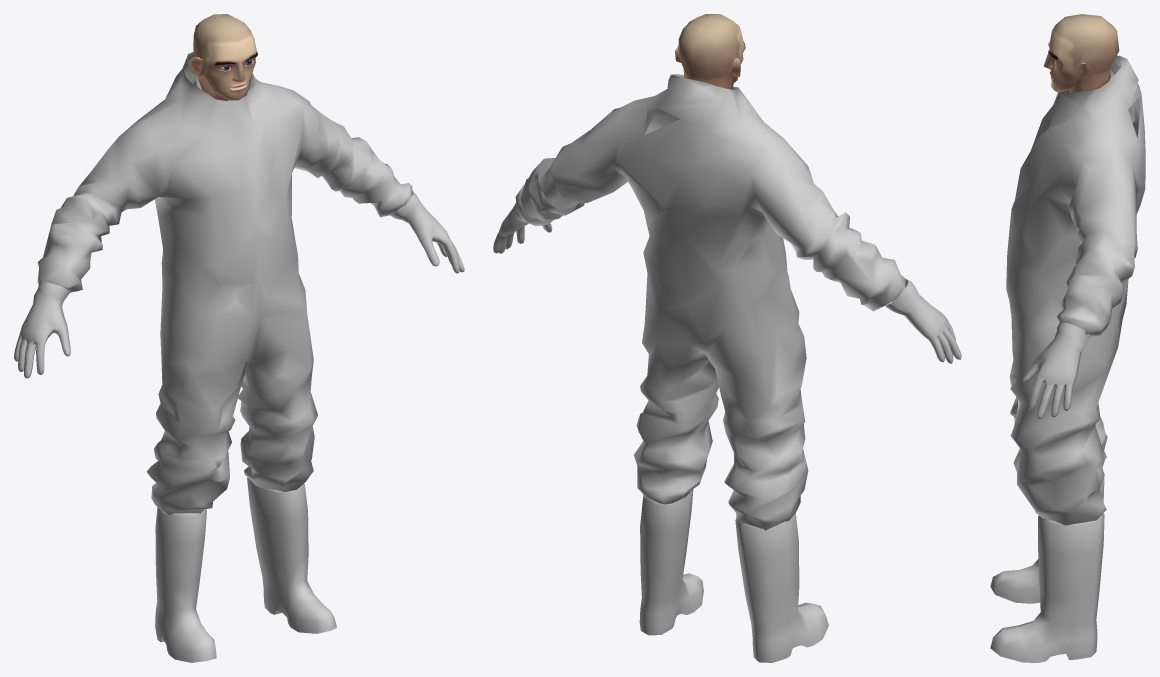
The picture shows the model from 3 angles, left to right: view 1: azimuth 30°, elevation 25°; view 2: azimuth 150°, elevation 25°; view 3: azimuth 270°, elevation 25°; orthographic projection. The views are drawn at different scales.
Parts seen in each view (by area): view 1: Bunny_Suit, Boots, Gloves, Head; view 2: Bunny_Suit, Boots, Head, Gloves; view 3: Bunny_Suit, Boots, Head, Gloves.
Part boxes in pixels (x1=…): Bunny_Suit: x1=37, y1=51, x2=412, y2=514; Boots: x1=155, y1=477, x2=336, y2=662; Gloves: x1=14, y1=191, x2=464, y2=378; Head: x1=187, y1=14, x2=257, y2=100; Bunny_Suit: x1=515, y1=74, x2=905, y2=530; Boots: x1=639, y1=489, x2=828, y2=662; Head: x1=675, y1=14, x2=745, y2=89; Gloves: x1=493, y1=203, x2=961, y2=363; Bunny_Suit: x1=1006, y1=55, x2=1145, y2=525; Boots: x1=990, y1=472, x2=1104, y2=662; Head: x1=1043, y1=14, x2=1119, y2=92; Gloves: x1=1022, y1=322, x2=1090, y2=418.
Size of the model in its own units: 151 by 197 by 45.63.
